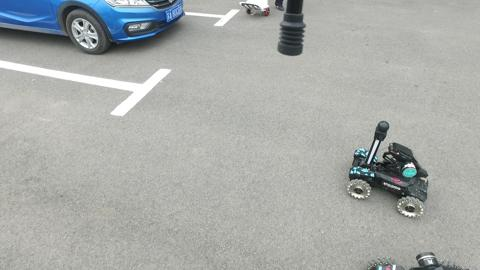chariot: (338, 110, 444, 223)
